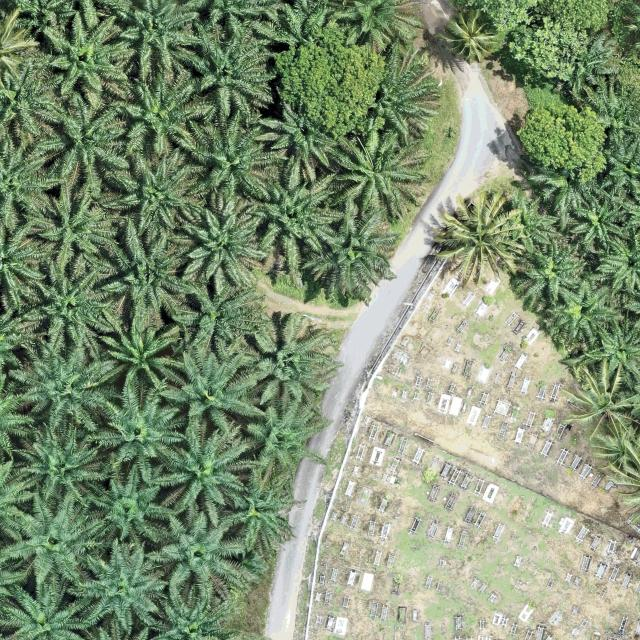Tree: (244, 155, 347, 284), (168, 15, 279, 128), (152, 419, 263, 531), (270, 39, 388, 140), (310, 127, 432, 224), (299, 197, 404, 308), (148, 505, 257, 605), (5, 337, 116, 434), (0, 488, 107, 588), (62, 534, 170, 632), (169, 109, 282, 202), (18, 255, 117, 358), (169, 194, 270, 294), (150, 346, 266, 432), (39, 5, 130, 112), (12, 421, 110, 519), (99, 216, 196, 314), (35, 95, 131, 194), (94, 385, 188, 484), (250, 305, 342, 406), (432, 191, 526, 289), (23, 178, 119, 273), (215, 462, 309, 559), (110, 72, 213, 156), (83, 461, 178, 550), (102, 0, 208, 77), (236, 394, 335, 475), (516, 95, 608, 182), (365, 40, 443, 142), (110, 143, 196, 235), (253, 99, 342, 187), (165, 276, 268, 352), (0, 134, 68, 234), (100, 316, 180, 394), (558, 362, 637, 440), (0, 576, 96, 640), (542, 279, 628, 350), (0, 49, 67, 139), (508, 12, 590, 82), (512, 238, 589, 311), (325, 0, 424, 54), (147, 583, 238, 640), (597, 431, 640, 535), (435, 8, 504, 65), (567, 190, 628, 250), (581, 324, 640, 382), (180, 0, 296, 28), (594, 226, 640, 295), (602, 132, 640, 211), (620, 282, 640, 348), (626, 364, 640, 427), (623, 0, 640, 51)
